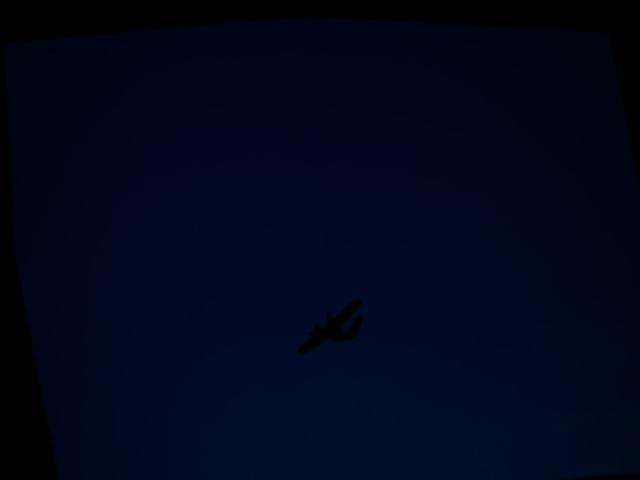plane: (284, 293, 368, 356)
